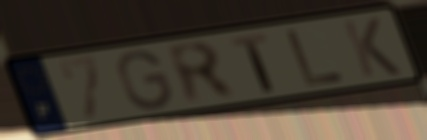7: (54, 54, 104, 123)
G: (115, 48, 176, 112)
K: (339, 15, 405, 80)
L: (282, 27, 349, 89)
R: (161, 39, 243, 109)
T: (227, 31, 277, 95)
